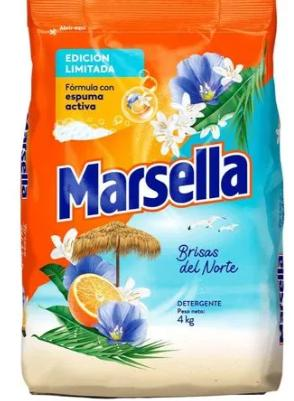brand: (47, 141, 262, 223)
net_weight: (175, 314, 196, 327)
product_name: (174, 241, 247, 278)
